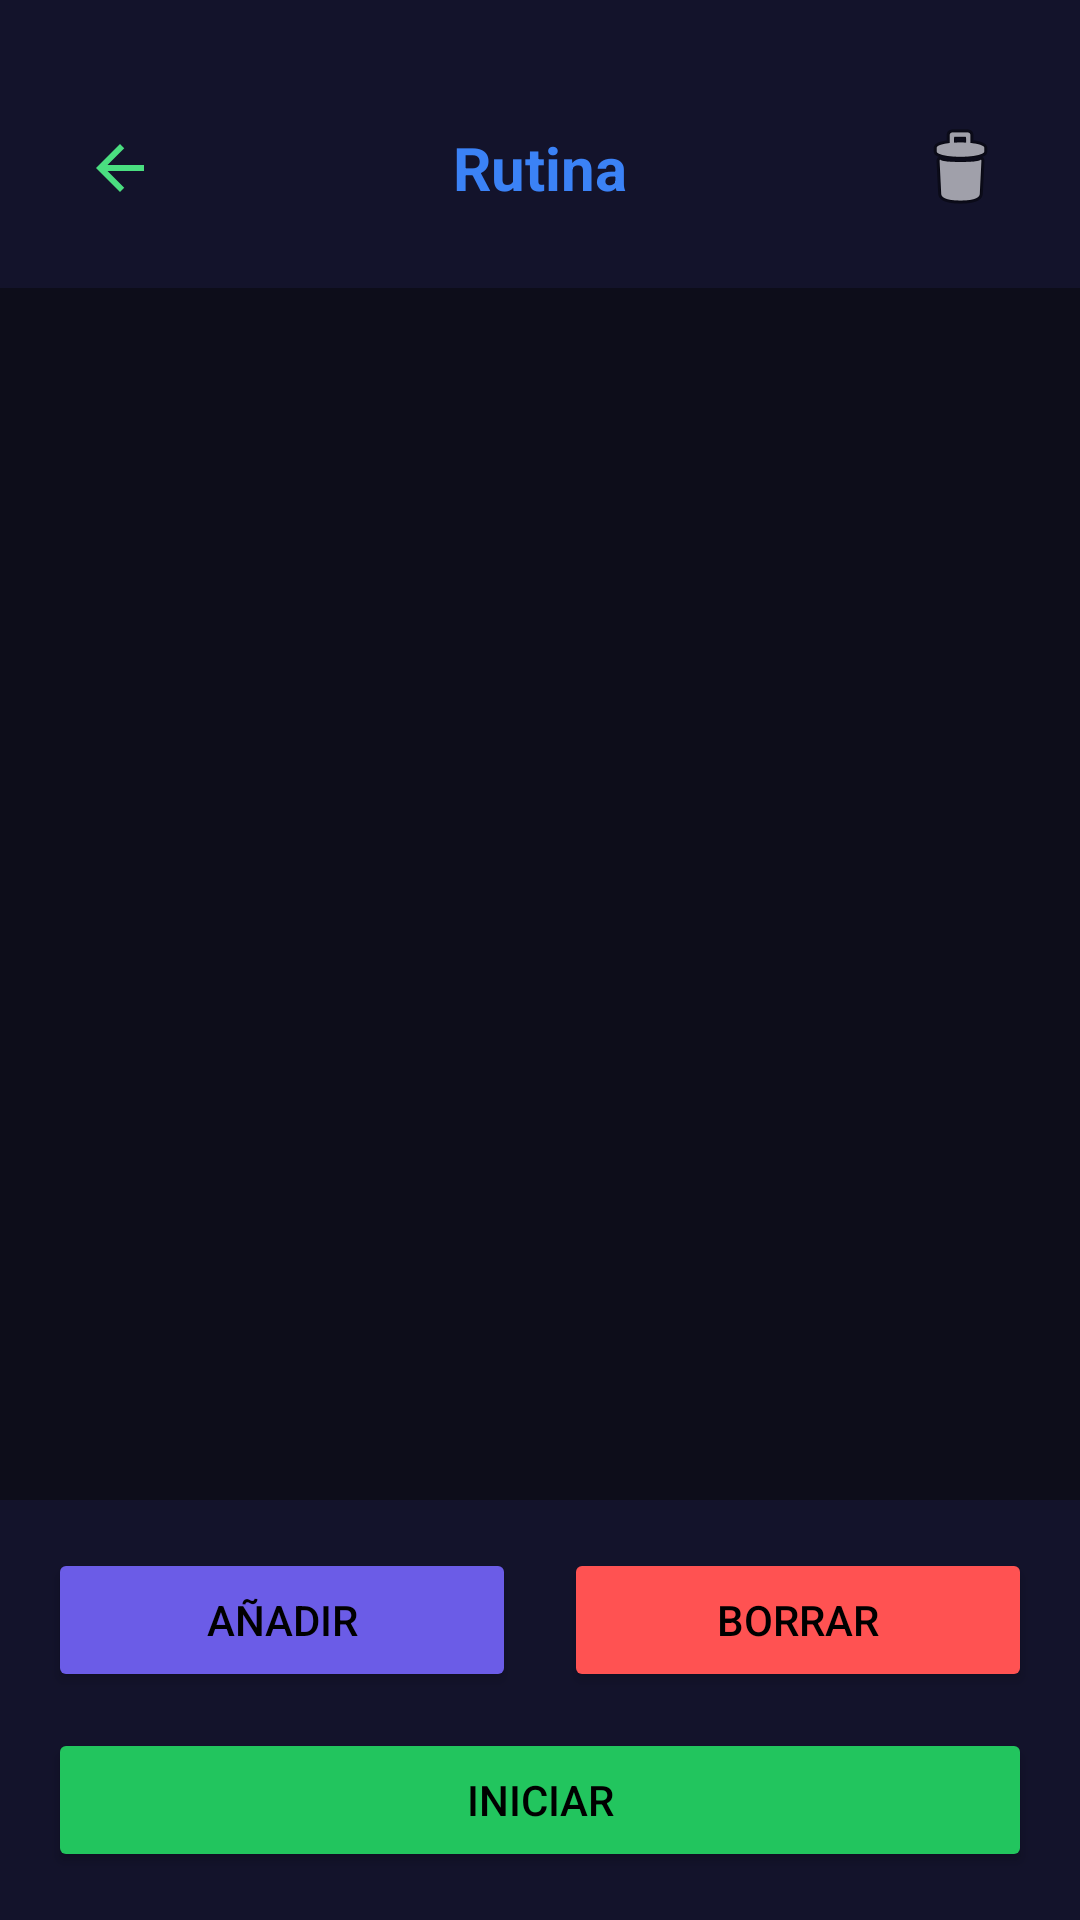

Named icons in this screenshot (1080×1920) and their bounding boxes, (x1, y1, x2, y2):
Volver: (96, 144, 144, 192)
